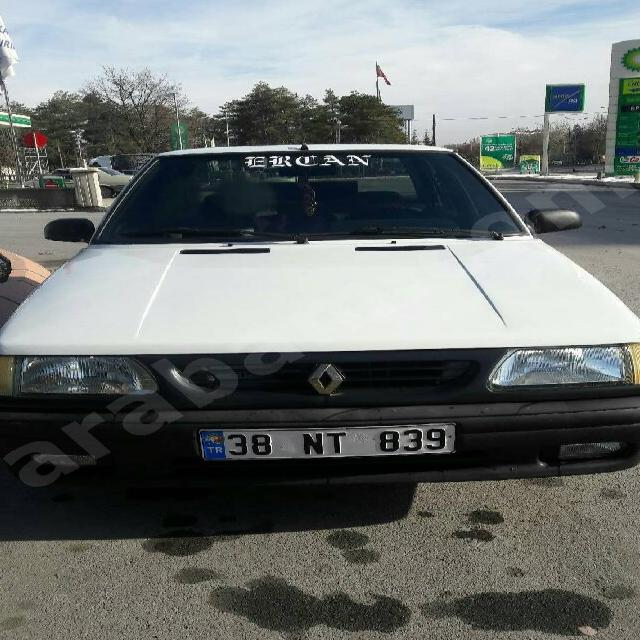license_plate: (202, 422, 456, 460)
